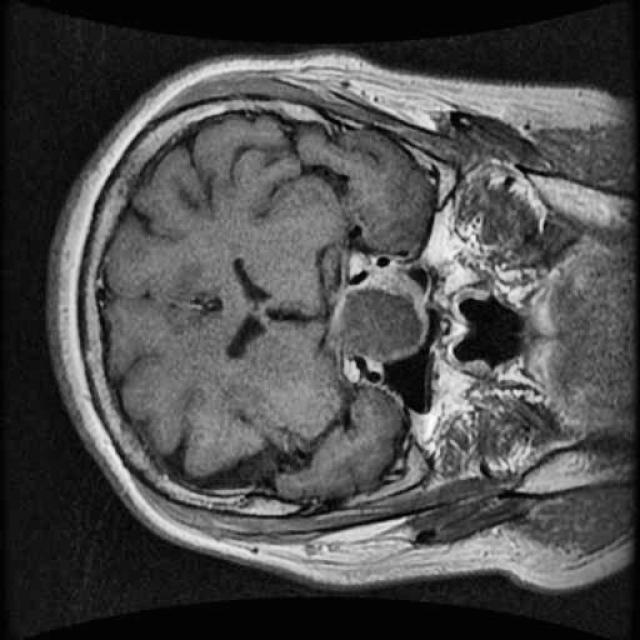Tumor: (331, 279, 439, 372)
